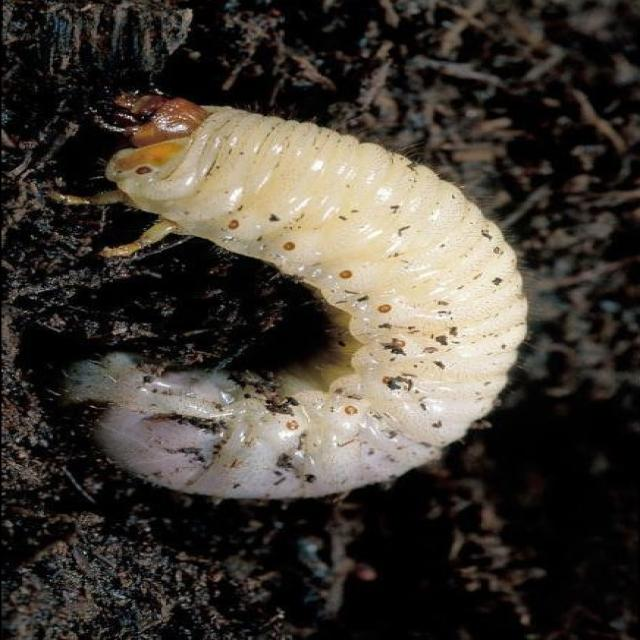grub: (75, 87, 527, 495)
